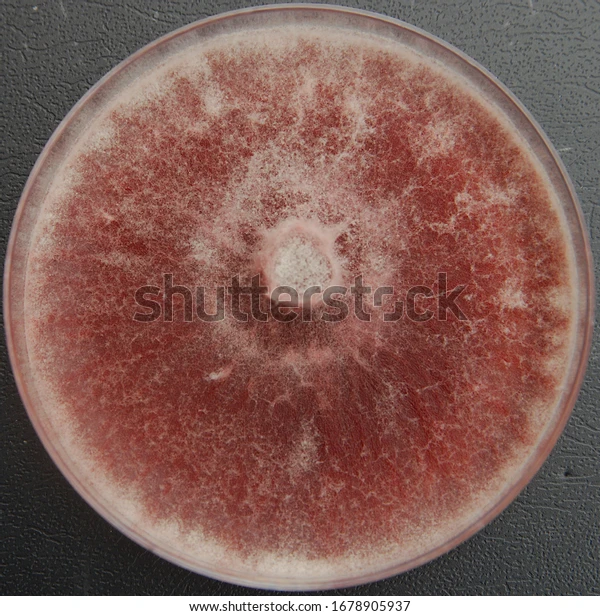Fusarium: (113, 97, 404, 282), (282, 361, 412, 499), (52, 388, 190, 458), (195, 42, 349, 65)
